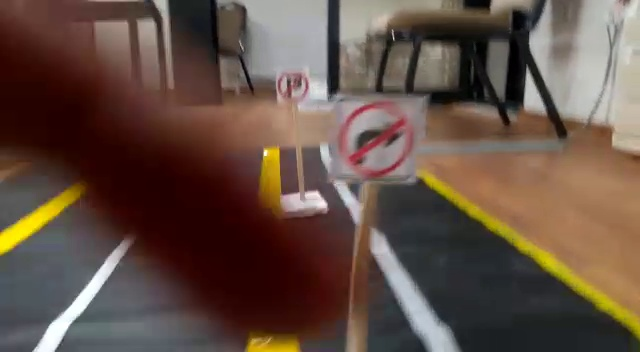park_yapilmaz: (274, 68, 311, 104)
saga_donulmez: (340, 98, 417, 181)
